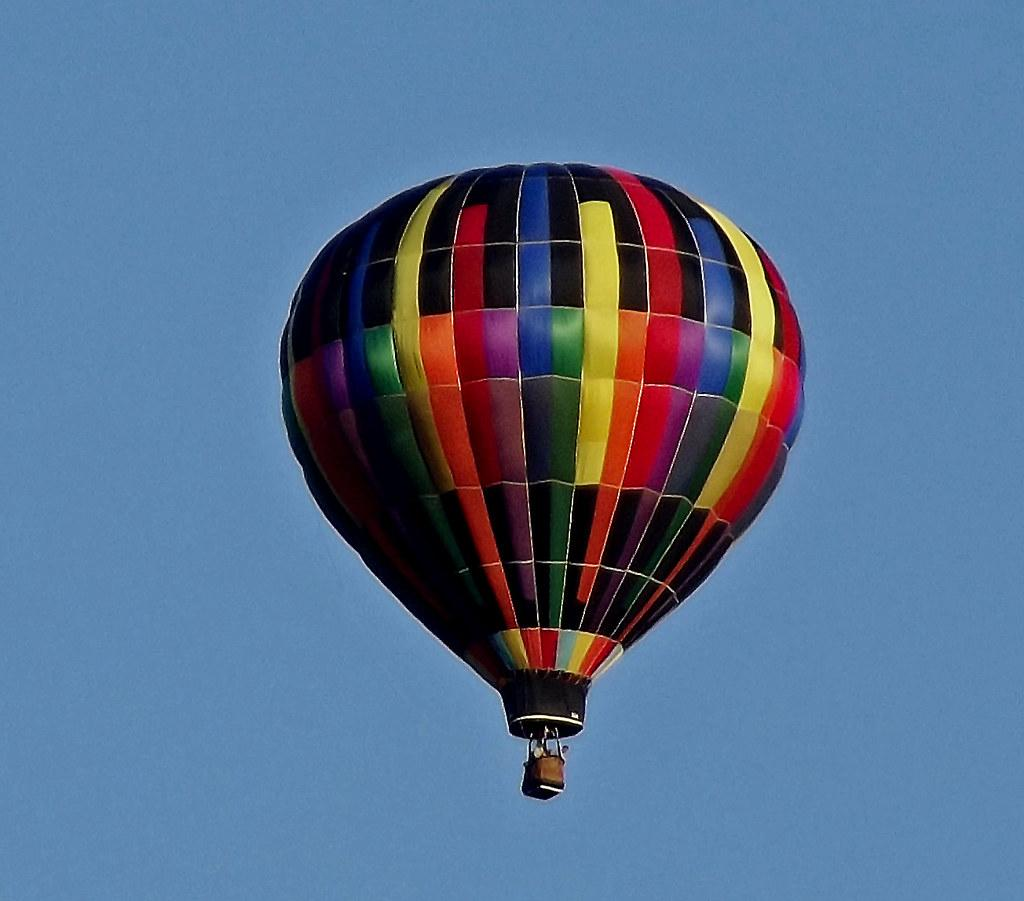balloon: (277, 159, 808, 801)
